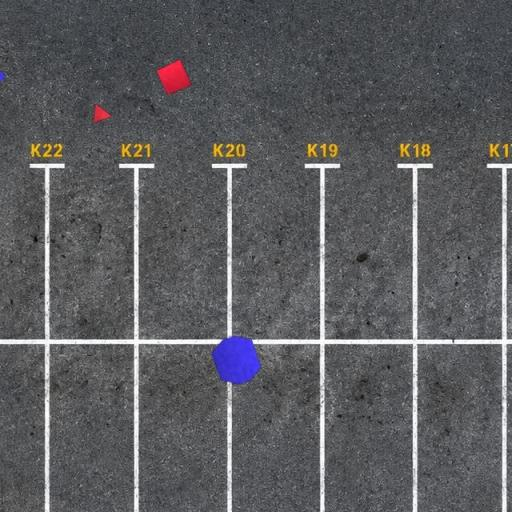RED_SQUARE: (155, 59, 193, 95)
